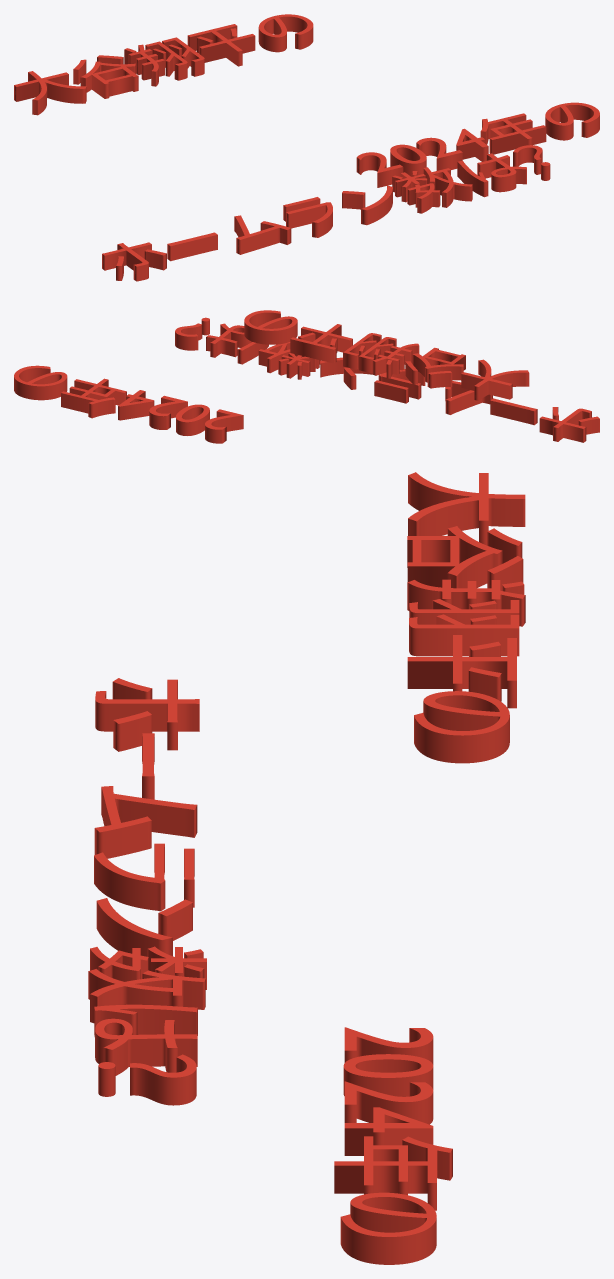
3 renders of one model, top to bottom at view 1: azimuth 30°, elevation 25°; view 2: azimuth 150°, elevation 25°; view 3: azimuth 270°, elevation 25°, orthographic. The views are drawn at different scales.
Parts seen in each view (by area): view 1: テキスト.002, テキスト.001, テキスト.003; view 2: テキスト.001, テキスト.002, テキスト.003; view 3: テキスト.002, テキスト.001, テキスト.003.
Part boxes in pixels (left/top/right/bottom): テキスト.002: left=102, top=145, right=550, bottom=281; テキスト.001: left=14, top=14, right=313, bottom=115; テキスト.003: left=356, top=102, right=599, bottom=187; テキスト.001: left=244, top=310, right=529, bottom=400; テキスト.002: left=175, top=317, right=599, bottom=442; テキスト.003: left=14, top=365, right=243, bottom=443; テキスト.002: left=88, top=678, right=206, bottom=1105; テキスト.001: left=407, top=472, right=525, bottom=763; テキスト.003: left=334, top=1027, right=452, bottom=1264.
Size of the model in its own units: 9.34 by 2.47 by 3.41.
